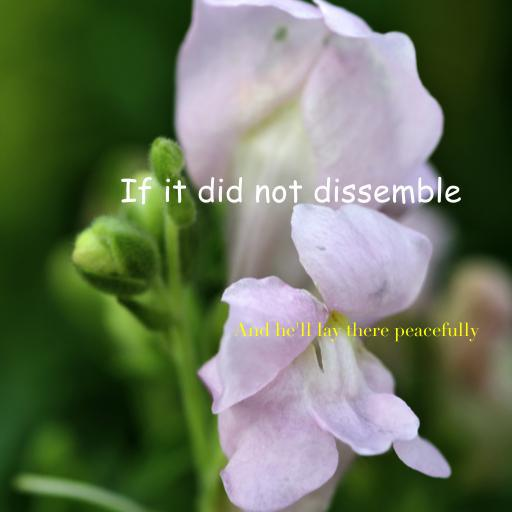Comic Sans MS: (120, 176, 462, 205)
Didot: (233, 322, 479, 342)
